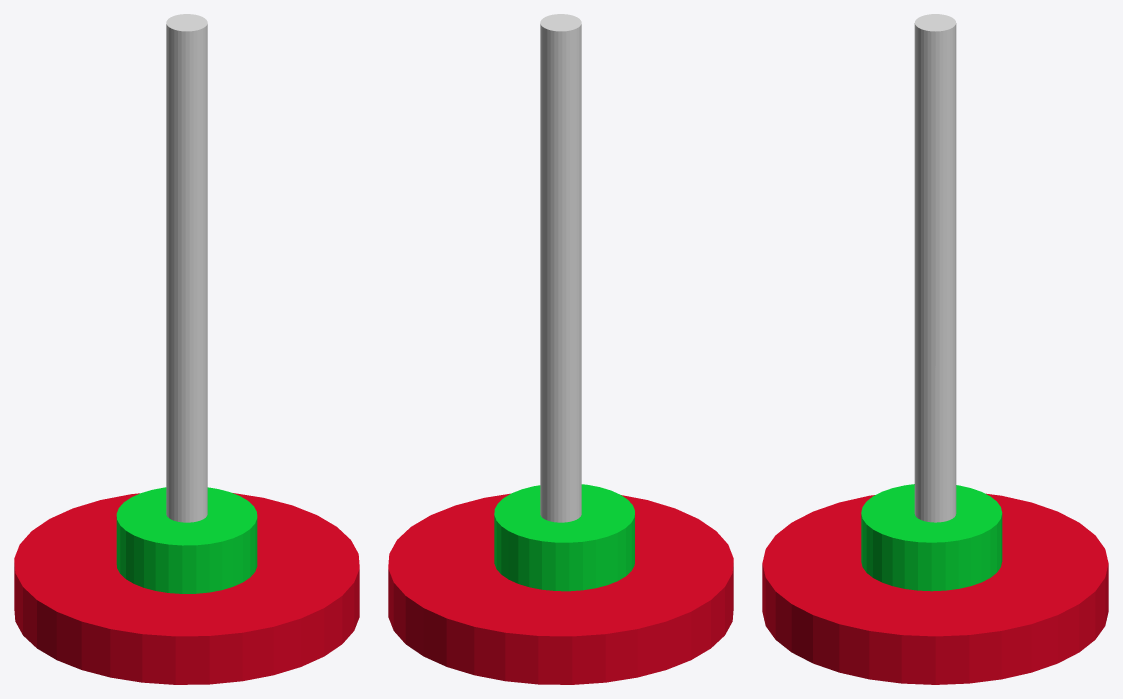
File: Towers of Hanoi 2 ring top fourth.fbx
3 views of the same model, side by side, from view 1: azimuth 30°, elevation 25°; view 2: azimuth 150°, elevation 25°; view 3: azimuth 270°, elevation 25° (orthographic).
Parts seen in each view (by area): view 1: Cylinder.001, Cylinder, Cylinder.004; view 2: Cylinder.001, Cylinder, Cylinder.004; view 3: Cylinder.001, Cylinder, Cylinder.004.
Part boxes in pixels (x1=…): Cylinder.001: x1=14, y1=493, x2=359, y2=684; Cylinder: x1=166, y1=14, x2=207, y2=522; Cylinder.004: x1=116, y1=487, x2=257, y2=593; Cylinder.001: x1=388, y1=493, x2=733, y2=684; Cylinder: x1=540, y1=14, x2=581, y2=522; Cylinder.004: x1=494, y1=484, x2=634, y2=591; Cylinder.001: x1=762, y1=493, x2=1108, y2=684; Cylinder: x1=914, y1=14, x2=956, y2=522; Cylinder.004: x1=861, y1=484, x2=1002, y2=591.
Bounding box in the file's own units: 270 × 506 × 270.
